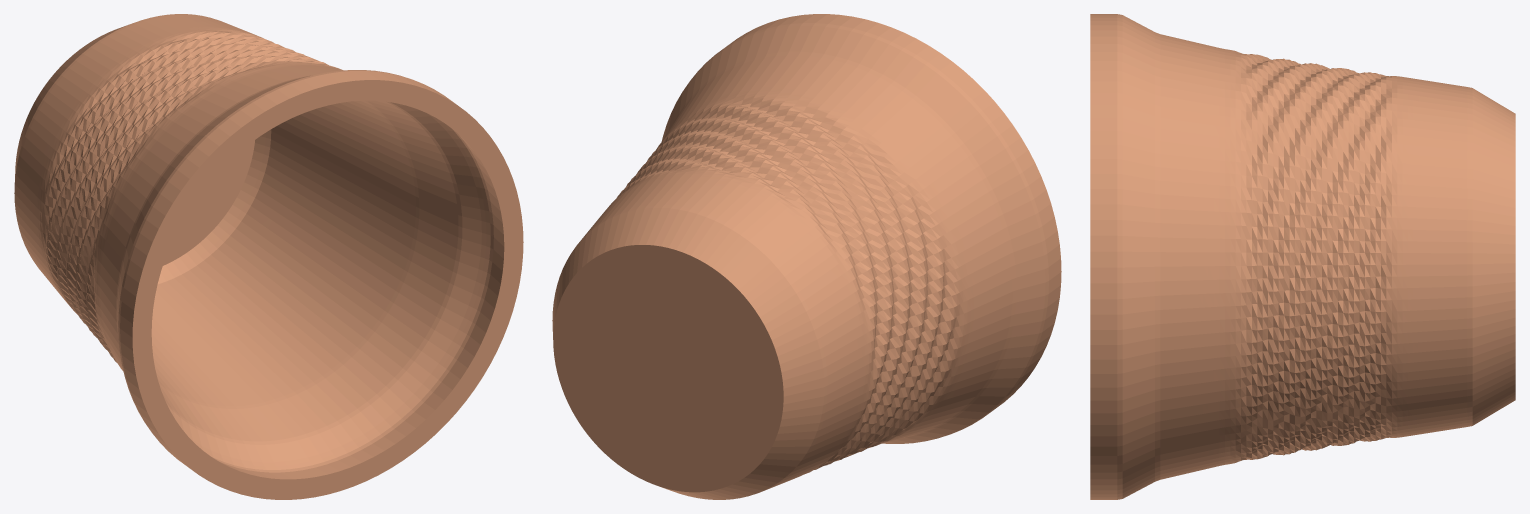
File: Pot_07_Etched_Chevron.glb
The picture shows the model from 3 angles, left to right: view 1: azimuth 30°, elevation 25°; view 2: azimuth 150°, elevation 25°; view 3: azimuth 270°, elevation 25°; orthographic projection. The views are drawn at different scales.
Visible parts, largest first — view 1: Pot_07_Etched_Chevron; view 2: Pot_07_Etched_Chevron; view 3: Pot_07_Etched_Chevron.
Part boxes in pixels (<box>): Pot_07_Etched_Chevron: <box>14,14,523,499</box>; Pot_07_Etched_Chevron: <box>552,14,1061,499</box>; Pot_07_Etched_Chevron: <box>1090,14,1515,499</box>.
Bounding box in the file's own units: 0.224 × 0.224 × 0.196.
